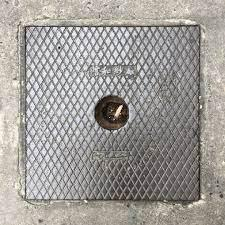wellcover: (20, 22, 207, 206)
